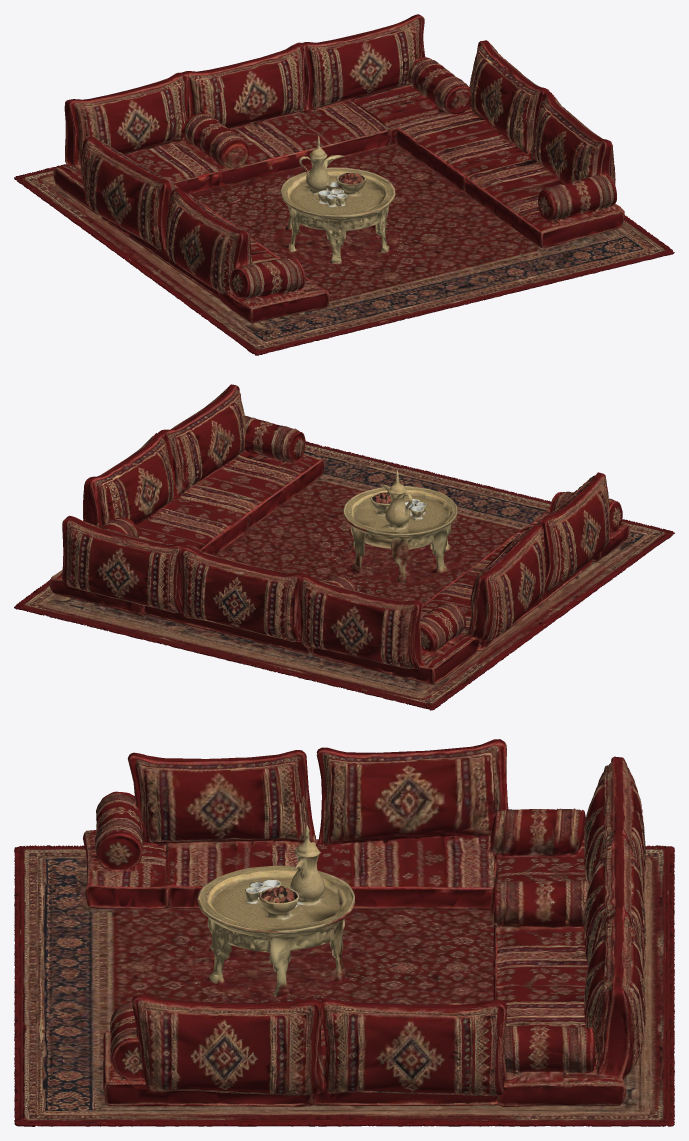
Rendered from majlis.glb.
The picture shows the model from 3 angles, top to bottom: view 1: azimuth 30°, elevation 25°; view 2: azimuth 150°, elevation 25°; view 3: azimuth 270°, elevation 25°; orthographic projection. The views are drawn at different scales.
Size of the model in its own units: 6.5 by 1.49 by 6.49.
1 material, 1 textured.
